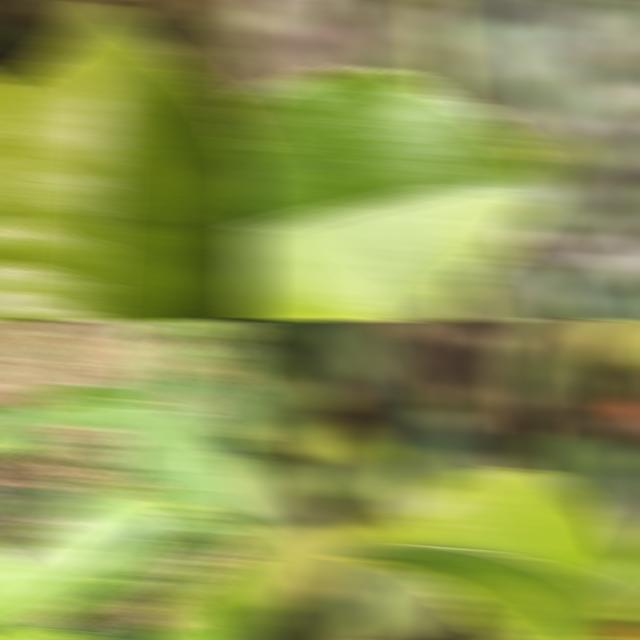Leaf: (0, 3, 260, 320), (238, 66, 555, 320), (334, 467, 634, 640), (0, 497, 191, 636), (101, 397, 260, 523), (469, 19, 595, 133), (376, 404, 496, 513), (238, 338, 326, 462), (238, 452, 331, 553), (344, 563, 464, 640), (238, 524, 342, 611), (521, 432, 626, 509), (498, 320, 587, 410), (321, 320, 401, 419), (166, 557, 260, 640), (17, 384, 138, 427), (597, 449, 640, 558), (134, 339, 195, 408), (108, 539, 195, 578), (286, 596, 360, 640), (197, 395, 257, 447), (0, 405, 52, 455), (186, 381, 236, 432), (51, 474, 110, 512), (70, 597, 140, 628), (216, 339, 260, 387), (282, 320, 337, 351), (80, 572, 139, 597), (121, 320, 167, 352), (150, 320, 212, 341), (13, 625, 95, 640), (105, 377, 157, 399), (169, 374, 223, 395), (0, 492, 41, 519), (184, 320, 229, 344), (131, 625, 189, 640), (4, 520, 49, 539), (13, 486, 74, 500)
